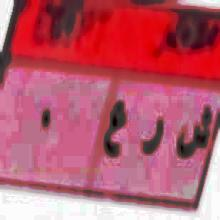0: (41, 98, 54, 144)
ain: (102, 95, 128, 167)
raa: (142, 112, 165, 157)
sheen: (178, 97, 211, 167)
